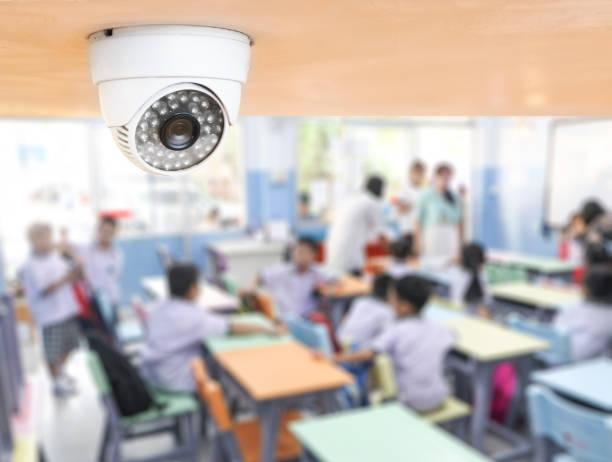camera: (60, 0, 255, 206)
